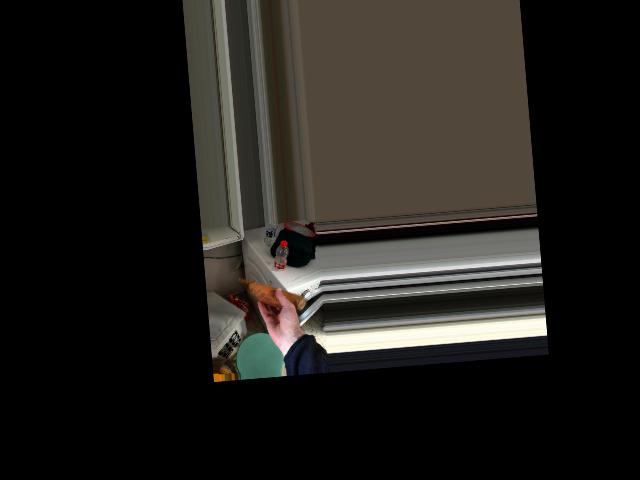sweet_potato: (253, 277, 302, 313)
